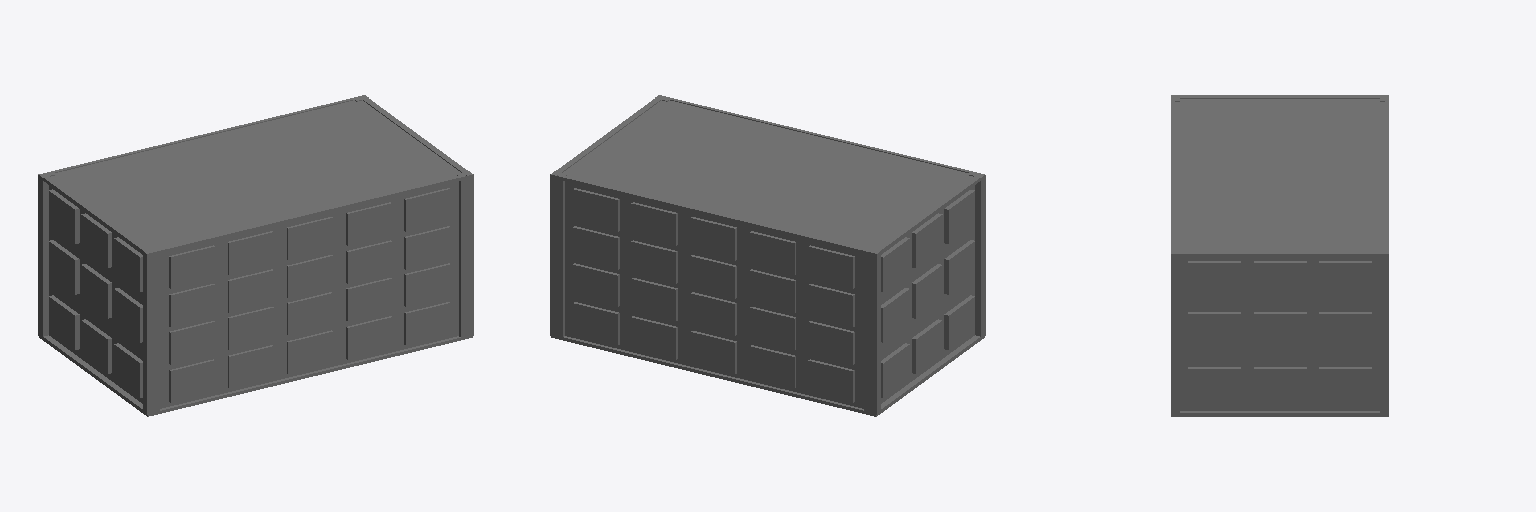
File: BUILDING_LONG.obj
3 renders of one model, left to right at view 1: azimuth 30°, elevation 25°; view 2: azimuth 150°, elevation 25°; view 3: azimuth 270°, elevation 25°, orthographic.
Visible parts, largest first — view 1: SHIP_LONG:polySurface1; view 2: SHIP_LONG:polySurface1; view 3: SHIP_LONG:polySurface1.
Part boxes in pixels (x1,y1,x2,y2): SHIP_LONG:polySurface1: (38,95,473,416); SHIP_LONG:polySurface1: (550,95,985,416); SHIP_LONG:polySurface1: (1171,95,1388,416).
Bounding box in the file's own units: 5.96 × 2.84 × 3.43.